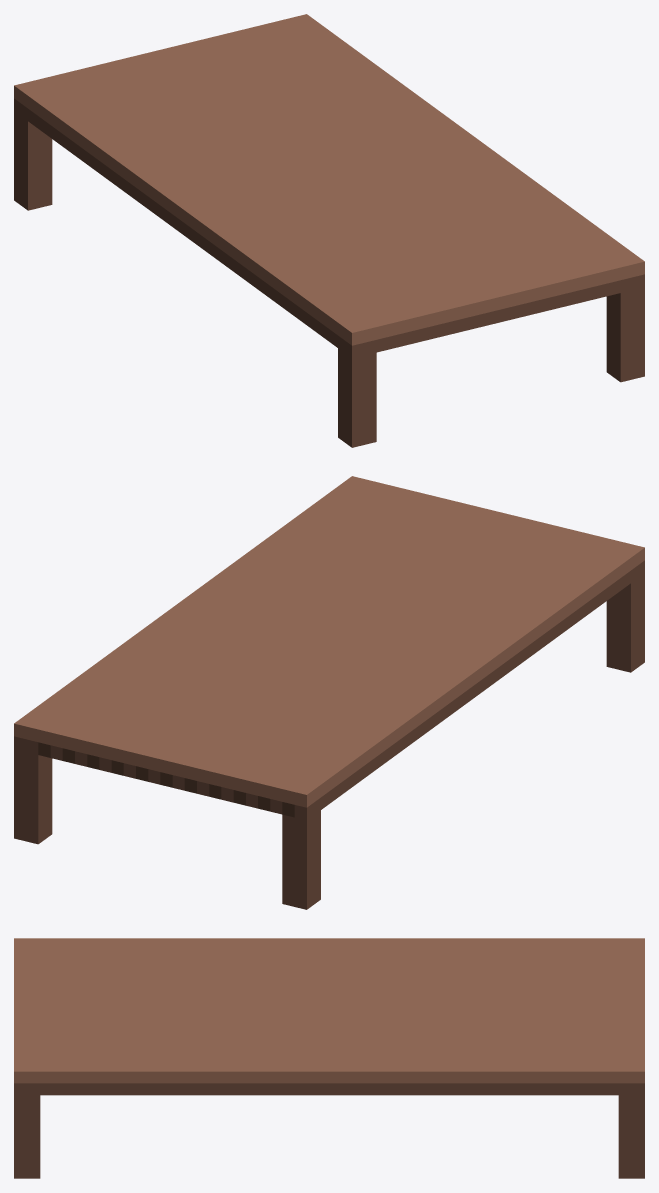
The model's file is mesa_consejo_caoba_tallada_01.glb.
The picture shows the model from 3 angles, top to bottom: view 1: azimuth 30°, elevation 25°; view 2: azimuth 150°, elevation 25°; view 3: azimuth 270°, elevation 25°; orthographic projection. The views are drawn at different scales.
Visible parts, largest first — view 1: mesa_consejo_caoba_tallada; view 2: mesa_consejo_caoba_tallada; view 3: mesa_consejo_caoba_tallada.
Part boxes in pixels (x1,y1,x2,y2): mesa_consejo_caoba_tallada: [14, 14, 644, 447]; mesa_consejo_caoba_tallada: [14, 476, 644, 909]; mesa_consejo_caoba_tallada: [14, 938, 644, 1178].
Size of the model in its own units: 2 by 0.75 by 4.
